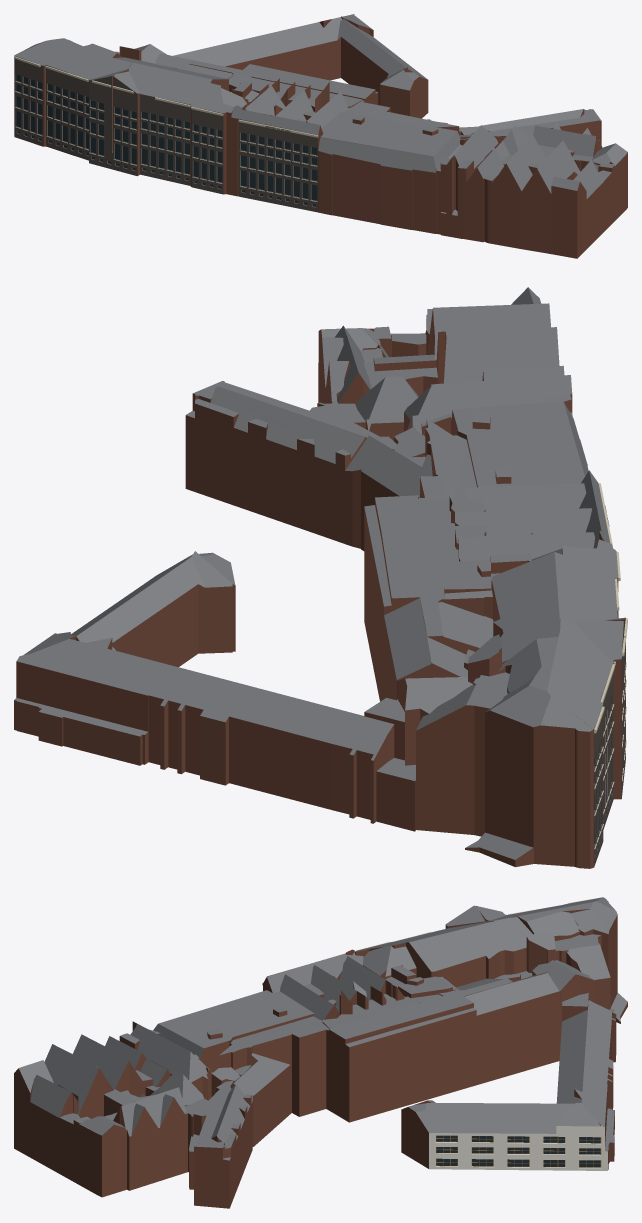
File: recipe-large-oude-turfmarkt-168172.glb
The picture shows the model from 3 angles, top to bottom: view 1: azimuth 30°, elevation 25°; view 2: azimuth 150°, elevation 25°; view 3: azimuth 270°, elevation 25°; orthographic projection. The views are drawn at different scales.
Parts seen in each view (by area): view 1: oude-turfmarkt-168172; view 2: oude-turfmarkt-168172; view 3: oude-turfmarkt-168172.
Part boxes in pixels (box(x1,y1,x2,y2)): oude-turfmarkt-168172: box(14, 14, 627, 258); oude-turfmarkt-168172: box(14, 287, 627, 868); oude-turfmarkt-168172: box(14, 897, 627, 1208).
Bounding box in the file's own units: 100 × 24.15 × 117.
